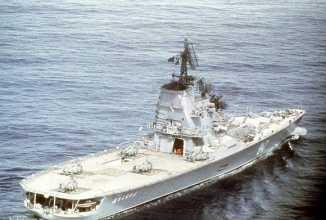warship: (28, 38, 307, 212)
